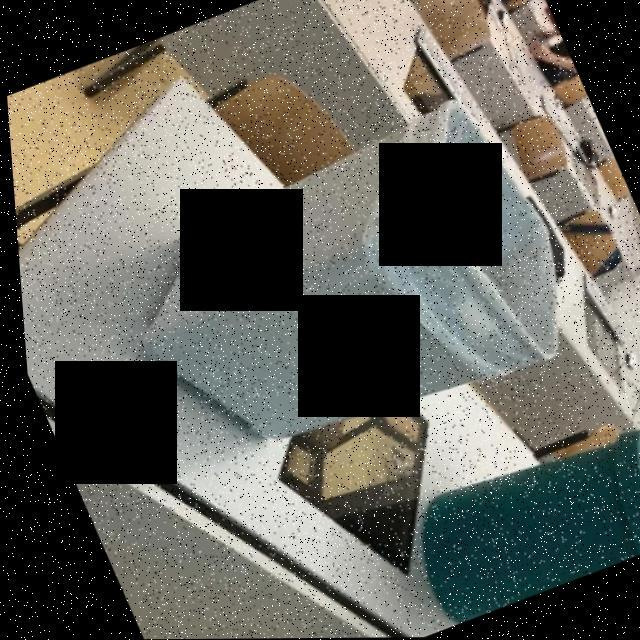bin: (53, 51, 640, 517), (374, 400, 640, 631)
